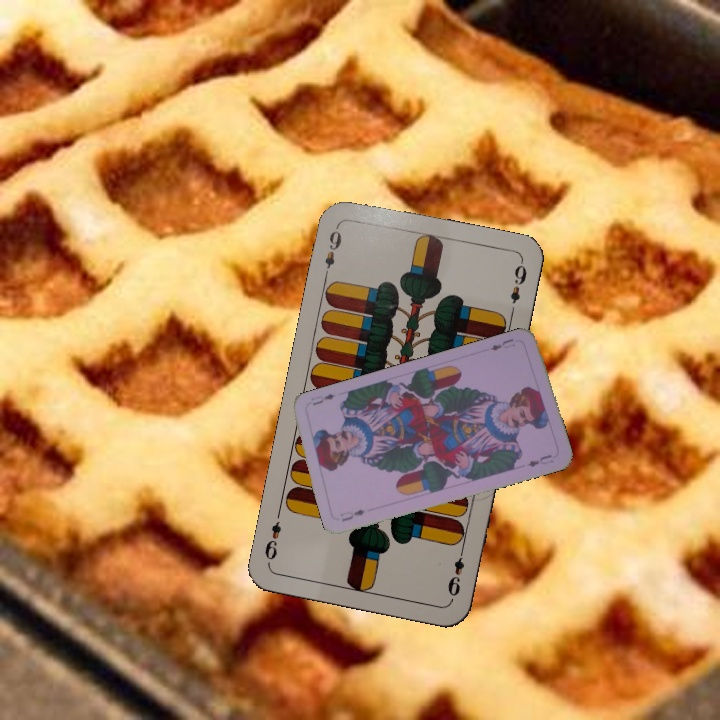E9: (443, 543, 467, 602), (320, 222, 344, 280)
EU: (486, 335, 518, 354), (338, 505, 368, 524)
